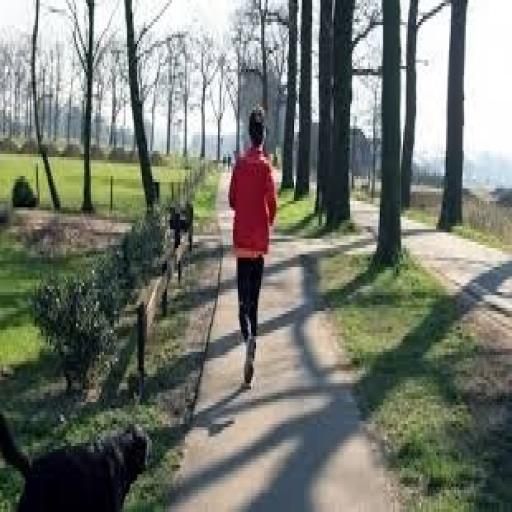running: (224, 100, 280, 392)
